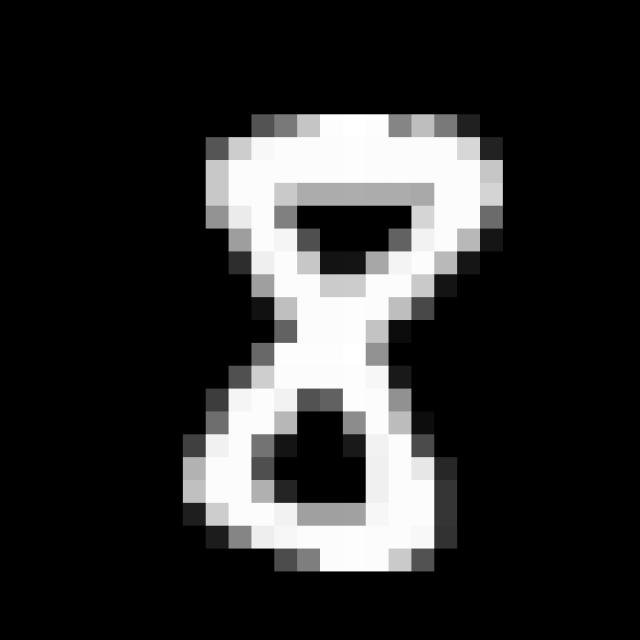eight -8-: (183, 107, 510, 582)
